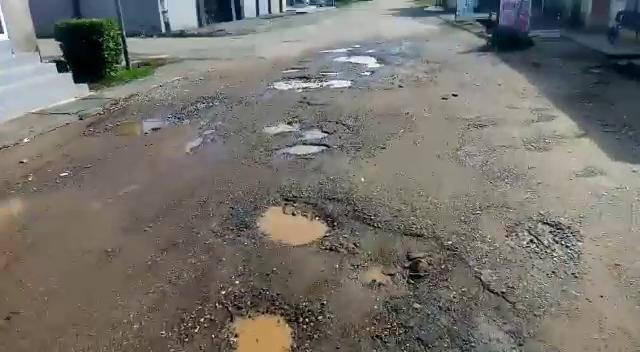pothole: (253, 198, 333, 246), (224, 311, 300, 352), (272, 73, 350, 91), (111, 117, 166, 139), (264, 121, 329, 138), (275, 139, 328, 156), (334, 53, 388, 68)
